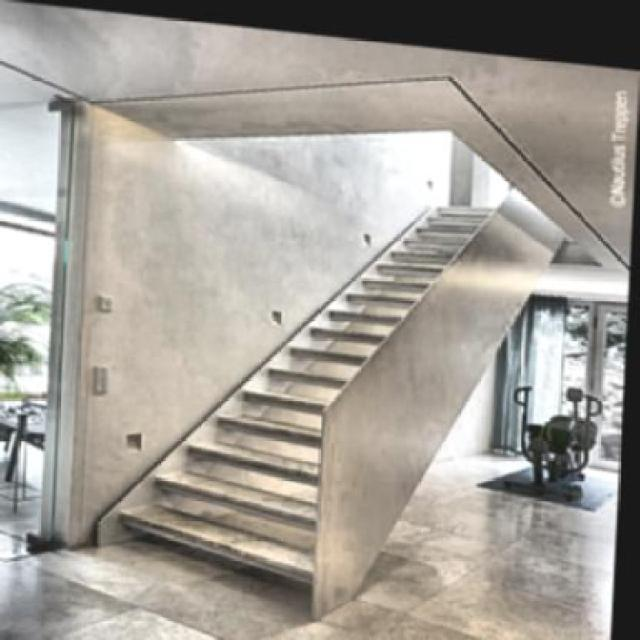stair: (86, 218, 434, 594)
